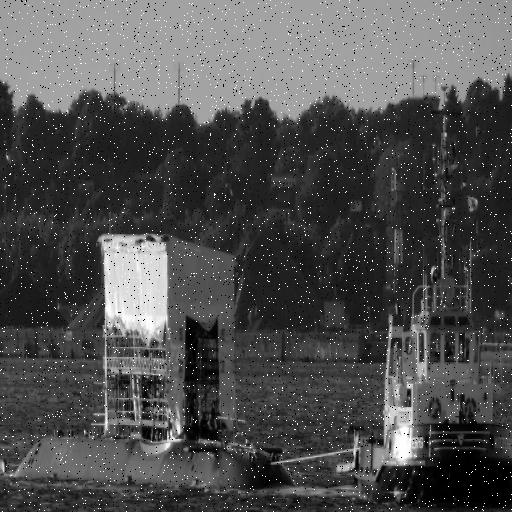submarine: (14, 226, 301, 494)
